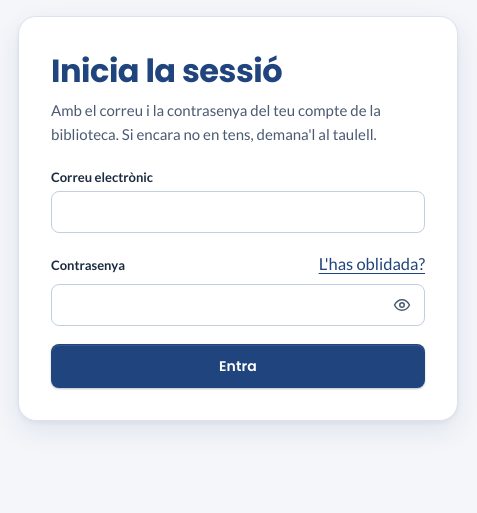
LoginPage › a wrong password shows the reason of the backend
This screenshot has width=477, height=513.
Type "pau@vidal.cat" into the field labelled "Correu electrònic" at (238, 212), box [51,191,425,233]
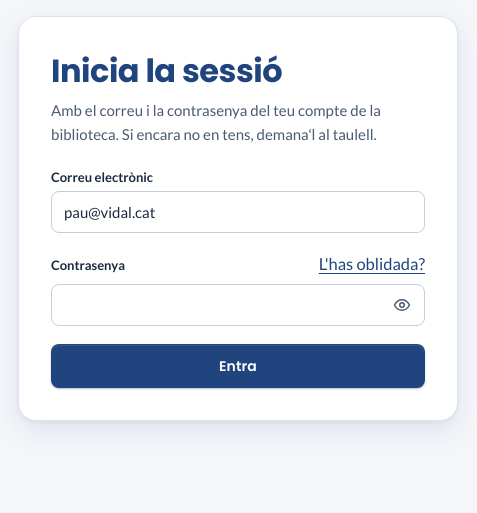
Type "una-altra-contrasenya" into the password field labelled "Contrasenya" at (238, 305), box [51,284,425,326]
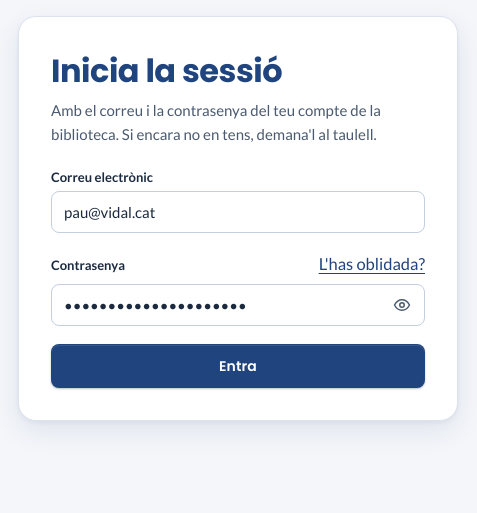
Click the button "Entra" at (238, 366), box [51,344,425,388]
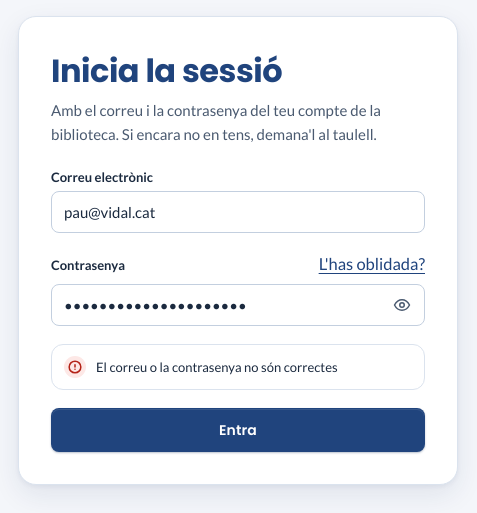
Expected: the text "El correu o la contrasenya no són correctes" is shown, [96,358,338,377]
